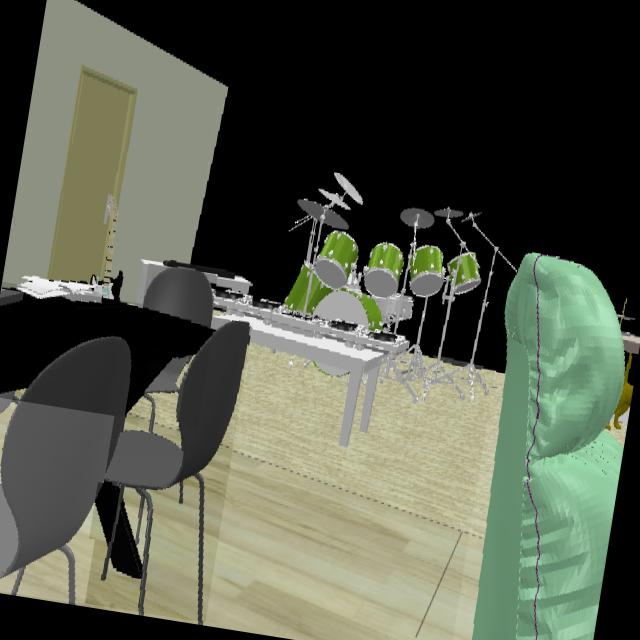chair: (102, 322, 250, 619), (0, 337, 130, 603), (143, 268, 212, 325), (145, 357, 188, 432)
sofa: (473, 254, 625, 640)
table: (0, 294, 213, 413), (112, 507, 142, 579), (95, 484, 120, 542)
